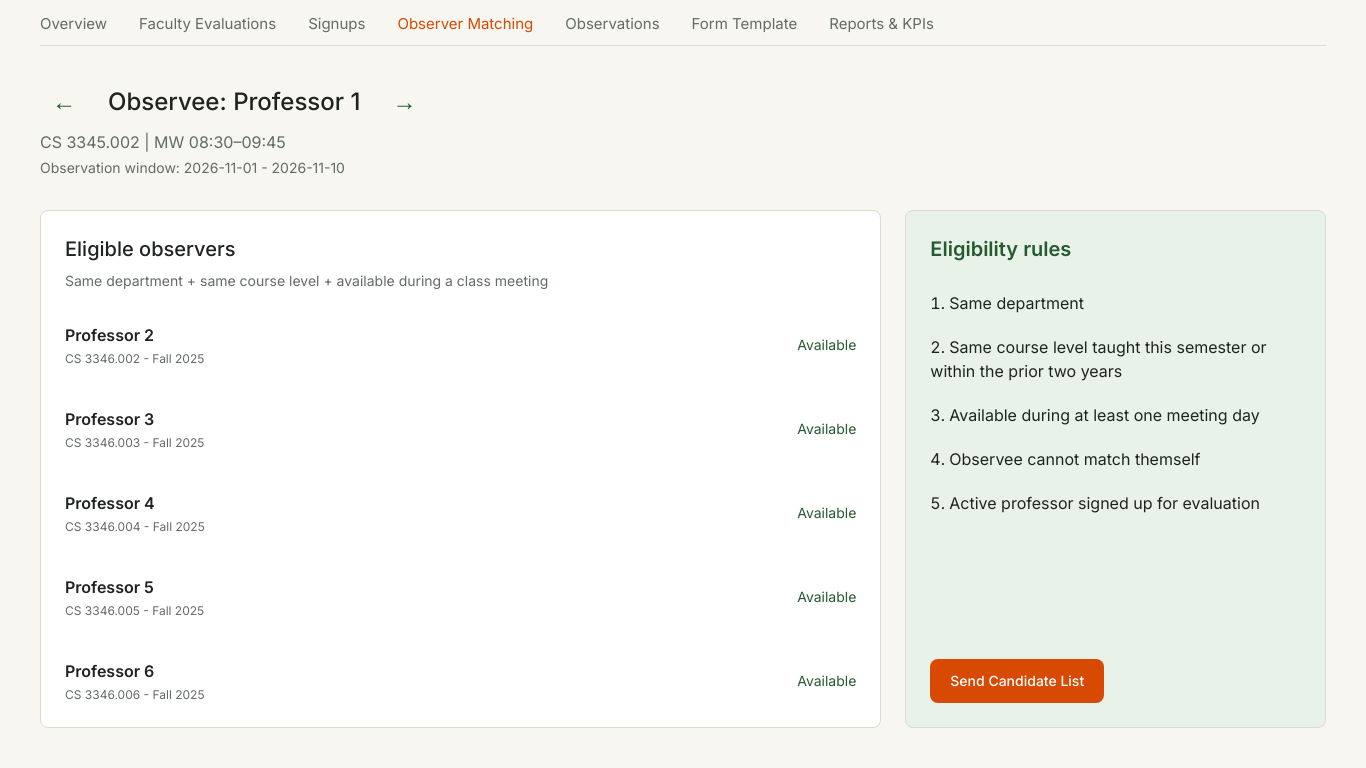
Test: loads persisted candidates and releases the reviewed list
(page scrolled)
Expected: the heading "Observee: Professor 1" is shown, [108,86,360,118]
Expected: the text "CS 3346.002 - Fall 2025" is shown, [65,351,204,366]
Click the button "Send Candidate List". click: (1017, 681)
box: [930,659,1104,703]
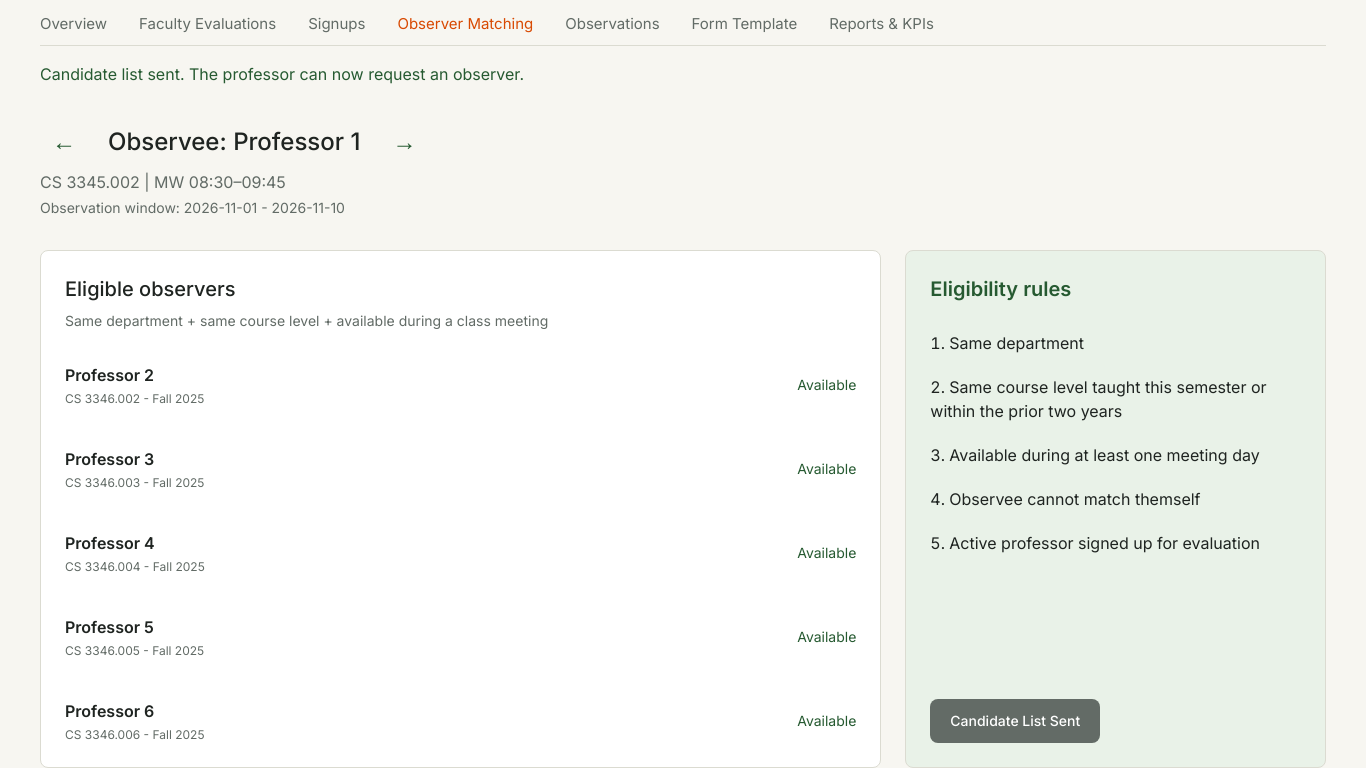
Now the button "Candidate List Sent" is shown, box [930,699,1100,743]
